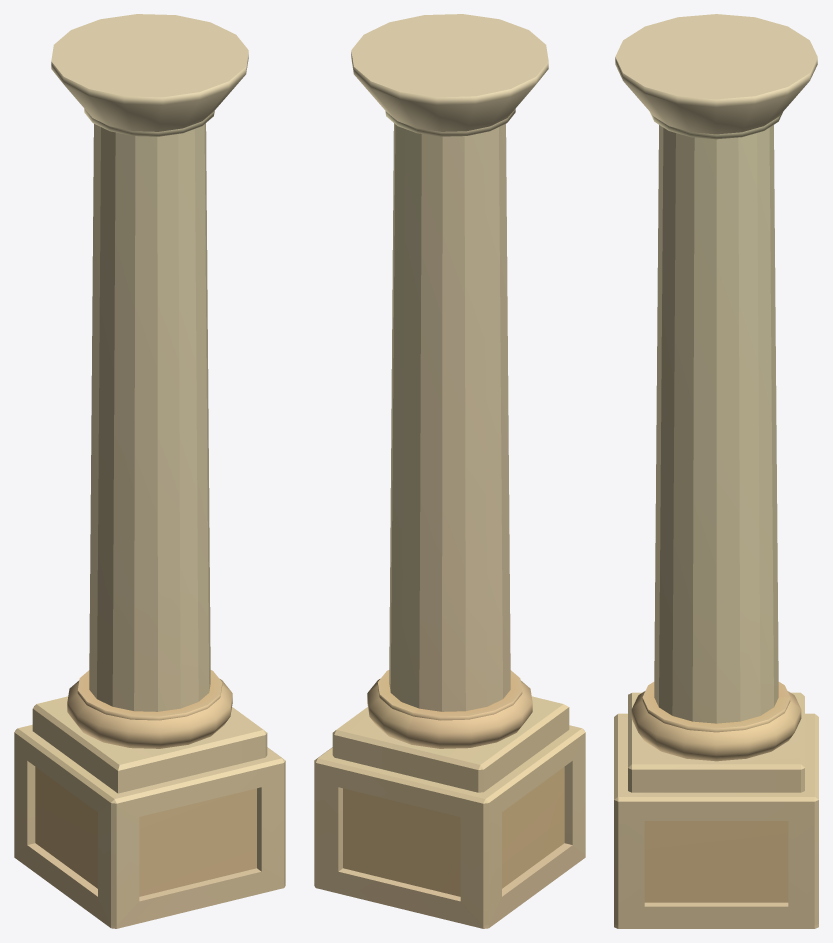
The model's file is column.fbx.
3 views of the same model, side by side, from view 1: azimuth 30°, elevation 25°; view 2: azimuth 150°, elevation 25°; view 3: azimuth 270°, elevation 25° (orthographic).
Visible parts, largest first — view 1: column; view 2: column; view 3: column.
Part boxes in pixels (x1=…): column: x1=14, y1=14, x2=285, y2=928; column: x1=314, y1=14, x2=585, y2=928; column: x1=614, y1=14, x2=818, y2=928.
Bounding box in the file's own units: 200 × 893 × 200.
1 material, 1 textured.
